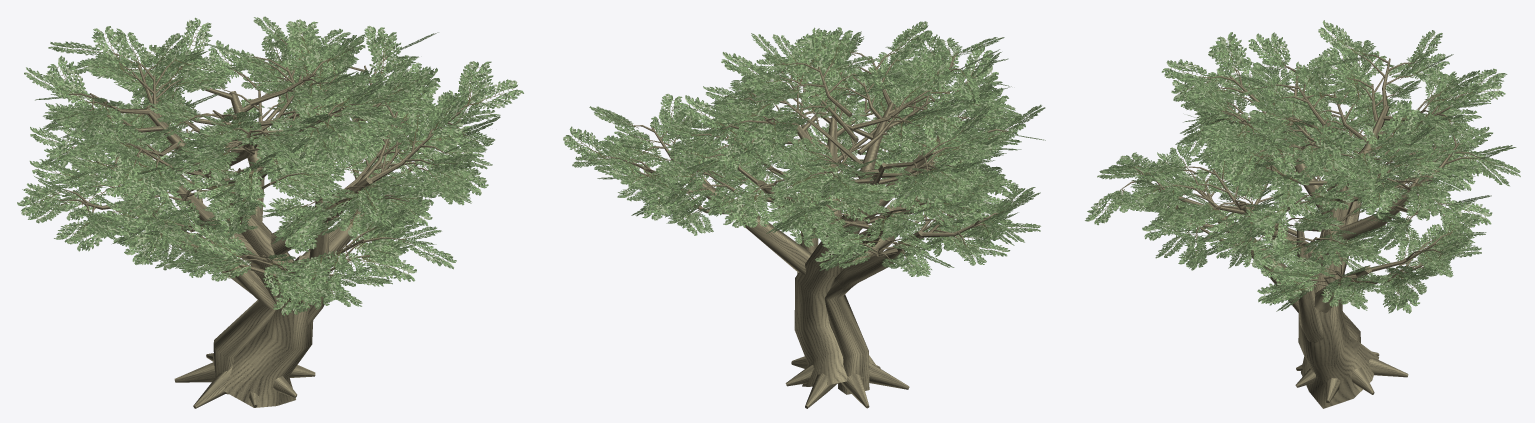
File: olive_mid.glb
3 views of the same model, side by side, from view 1: azimuth 30°, elevation 25°; view 2: azimuth 150°, elevation 25°; view 3: azimuth 270°, elevation 25° (orthographic). The views are drawn at different scales.
Visible parts, largest first — view 1: olive_mid; view 2: olive_mid; view 3: olive_mid.
Boxes of the visible parts, x1,y1,x2,y2 form: olive_mid: [17, 16, 523, 408]; olive_mid: [563, 21, 1045, 408]; olive_mid: [1085, 20, 1520, 408].
Bounding box in the file's own units: 6.95 × 4.94 × 6.28.
Materials: 2 (2 with a texture image).
